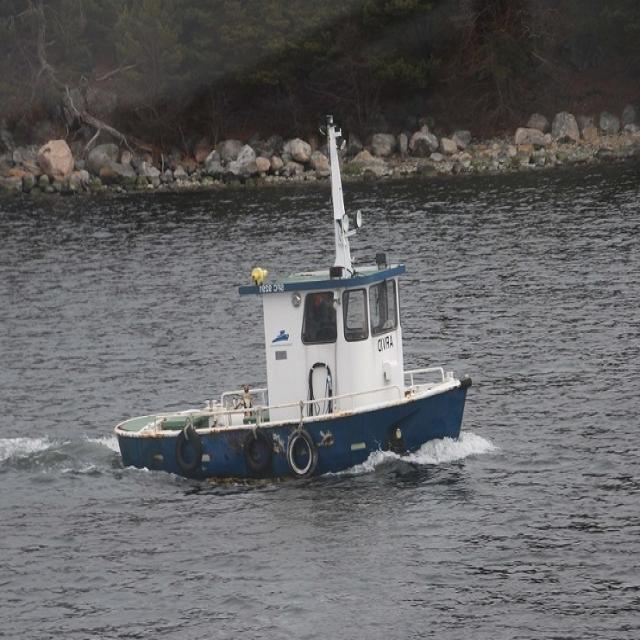houseboat: (118, 121, 474, 493)
